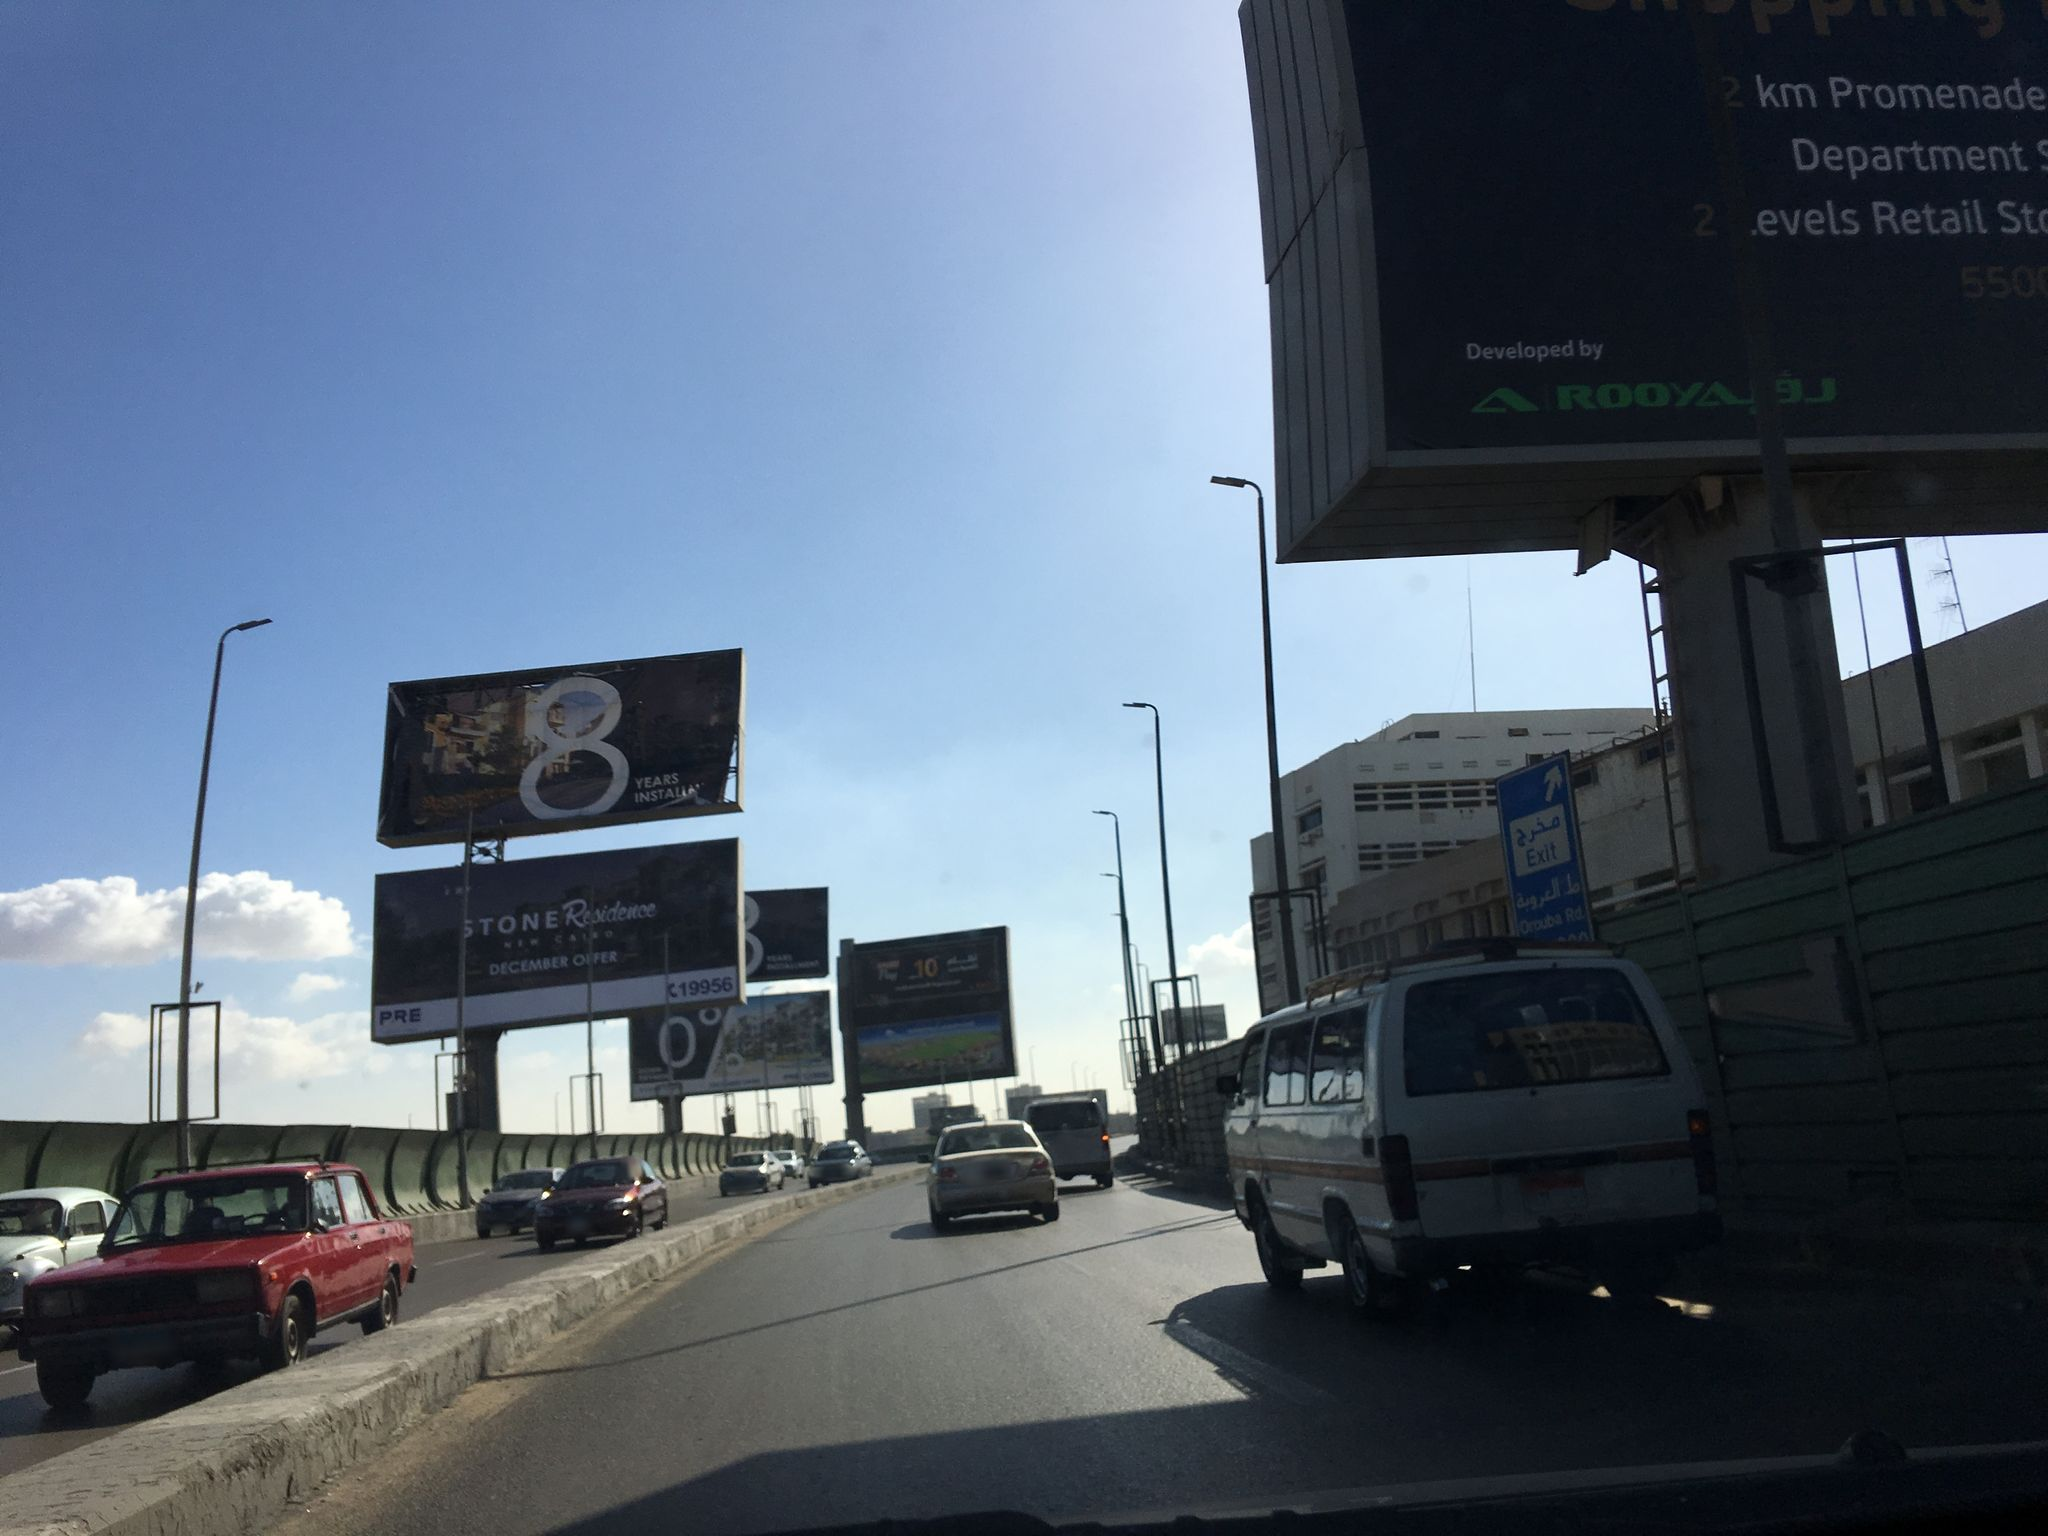car: (1214, 934, 1722, 1328), (23, 1149, 418, 1412), (0, 1184, 139, 1354), (918, 1118, 1059, 1228), (531, 1155, 669, 1250), (1021, 1096, 1113, 1189), (474, 1167, 564, 1234), (719, 1149, 785, 1196), (806, 1139, 872, 1186), (769, 1149, 805, 1179)
